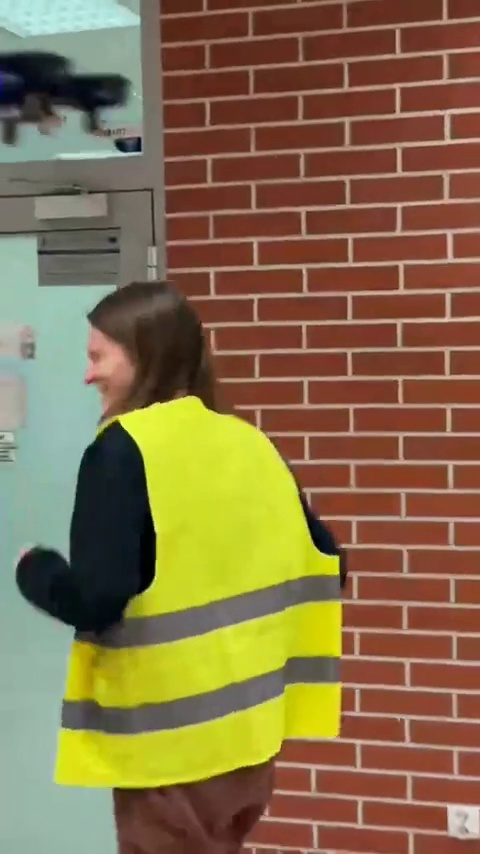drone: (0, 63, 137, 144)
vest: (14, 276, 346, 854)
